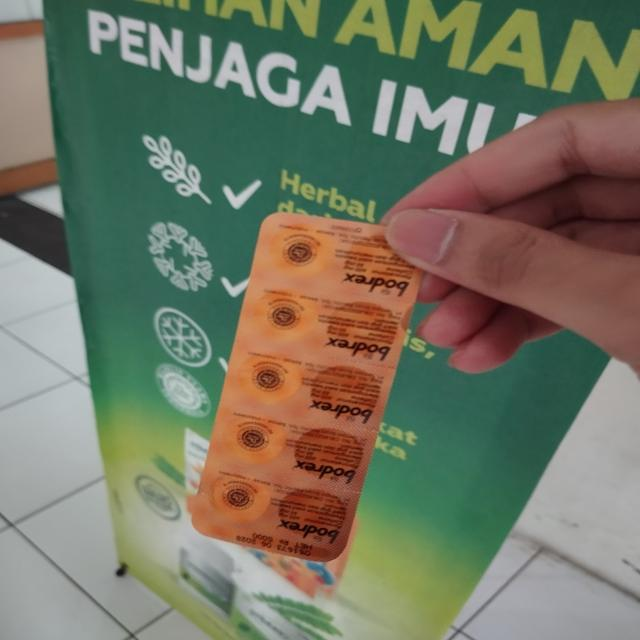B3: (192, 210, 421, 560)
